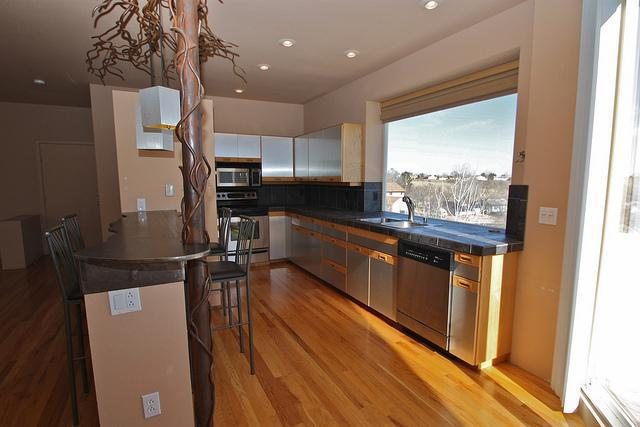Lavaplatos: (351, 193, 431, 231)
